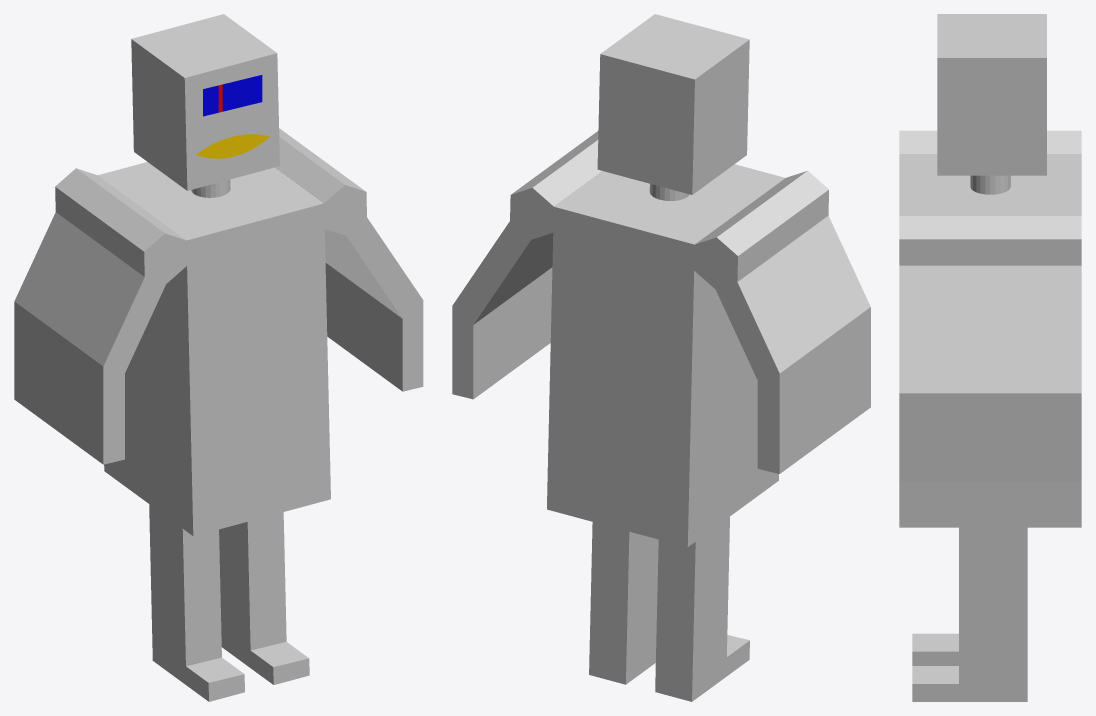
File: Robot.fbx
The picture shows the model from 3 angles, left to right: view 1: azimuth 30°, elevation 25°; view 2: azimuth 150°, elevation 25°; view 3: azimuth 270°, elevation 25°; orthographic projection. The views are drawn at different scales.
Visible parts, largest first — view 1: skpEDD9_1; view 2: skpEDD9_1; view 3: skpEDD9_1.
Part boxes in pixels (bbox=[...]): skpEDD9_1: bbox=[14, 14, 423, 701]; skpEDD9_1: bbox=[452, 14, 870, 701]; skpEDD9_1: bbox=[899, 14, 1081, 701].
Size of the model in its own units: 88459 by 163797 by 42609.
